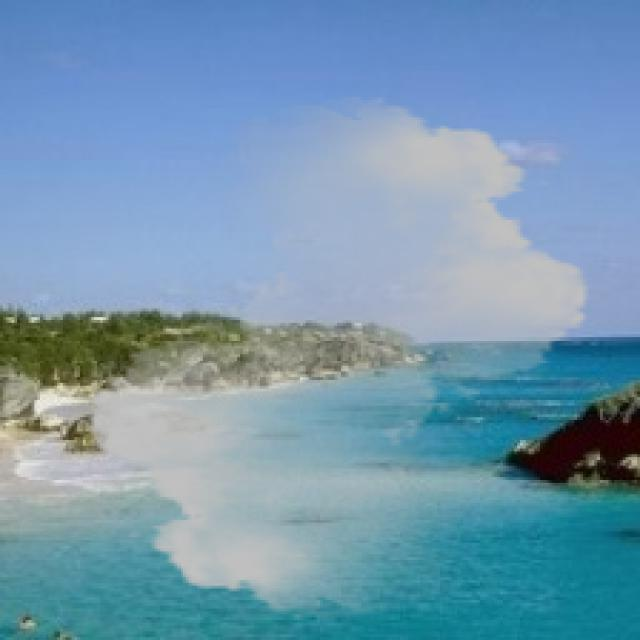Smoke: (71, 97, 606, 620)
